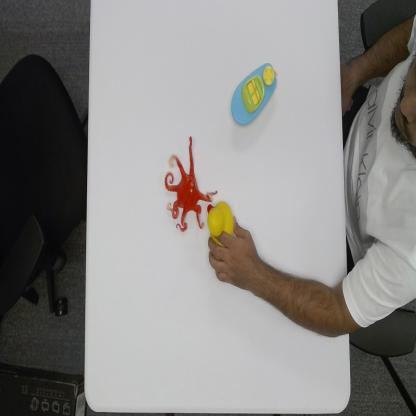Arm: (263, 251, 388, 342)
Boat: (229, 58, 280, 130)
Duck: (204, 199, 236, 238)
Hand: (206, 214, 258, 291)
Octopus: (164, 134, 219, 236)
